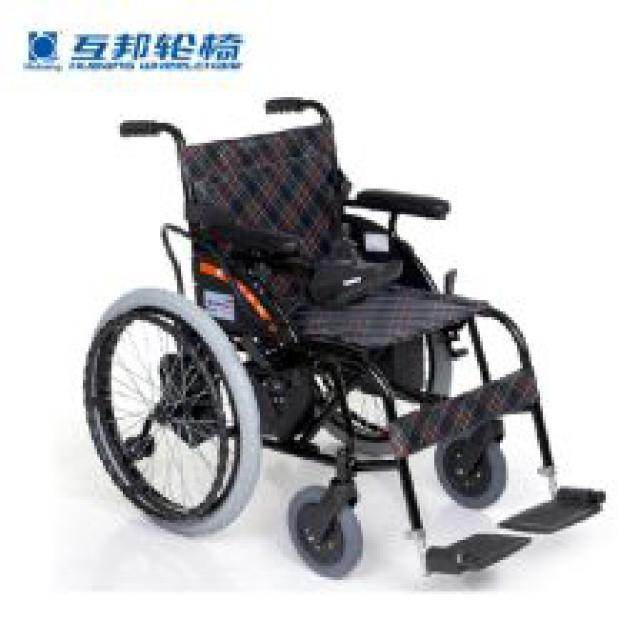wheelchairs: (82, 100, 605, 575)
